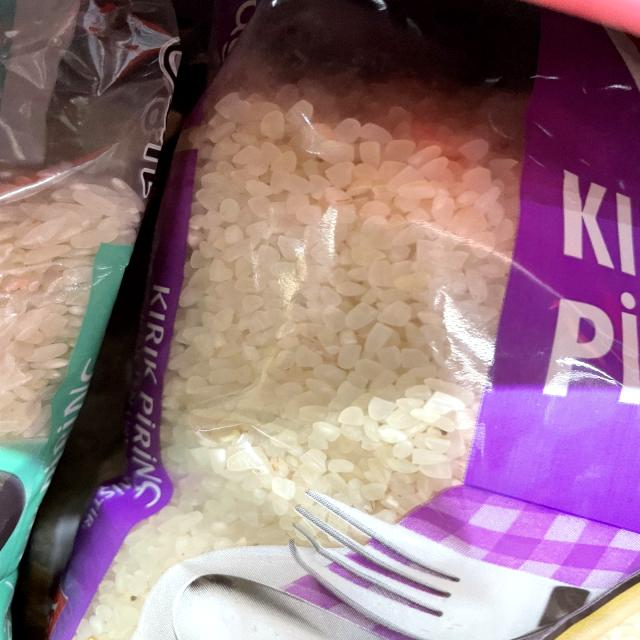rice: (211, 126, 456, 442)
